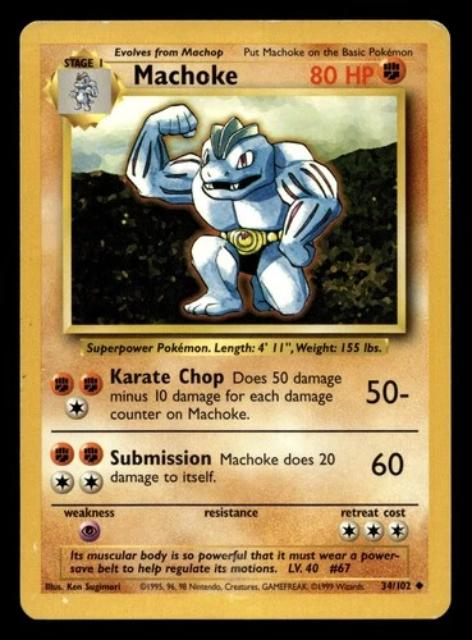Card: (14, 10, 453, 622)
Name: (124, 59, 241, 90)
